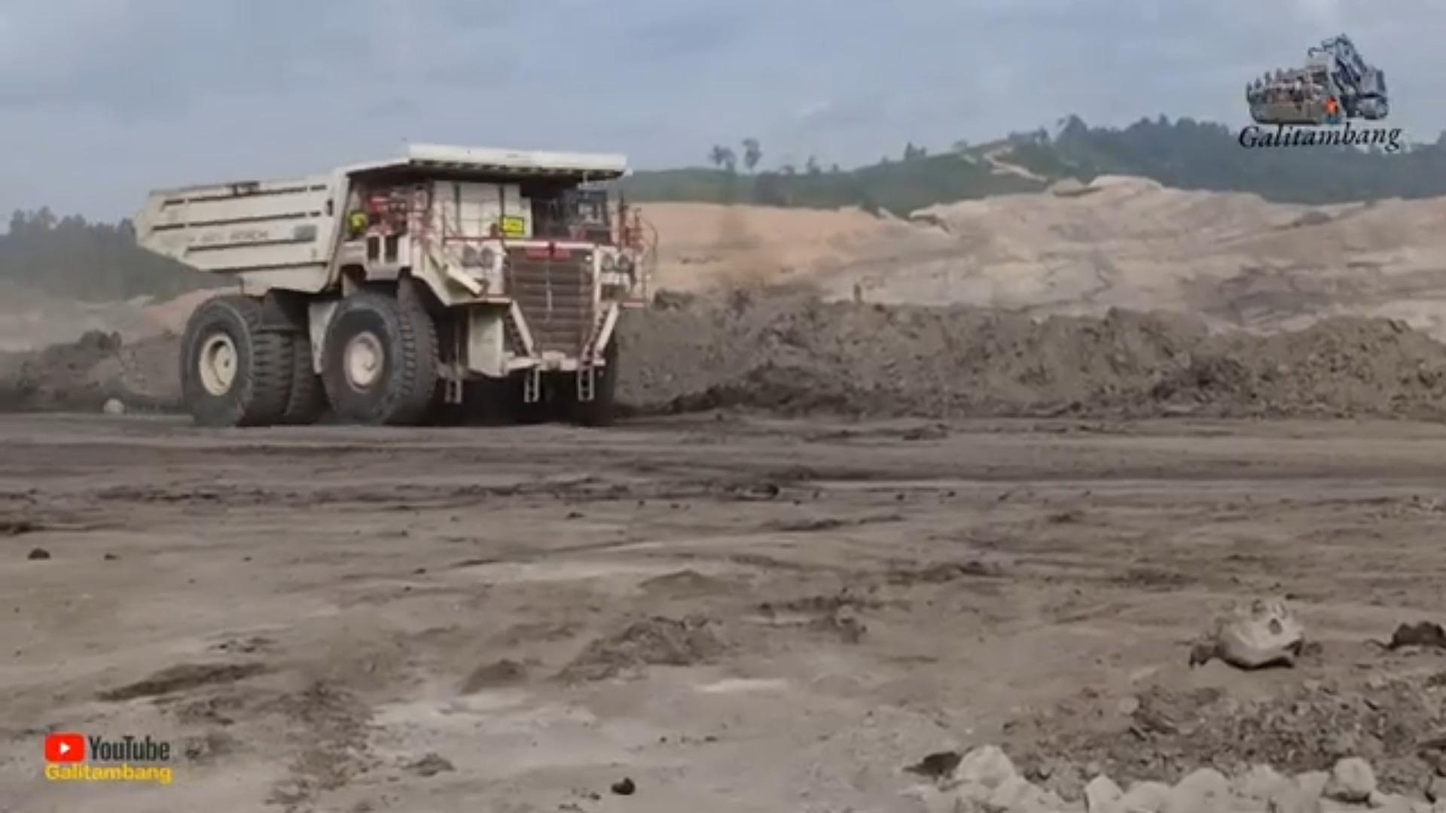HD-Truck: (133, 143, 653, 426)
